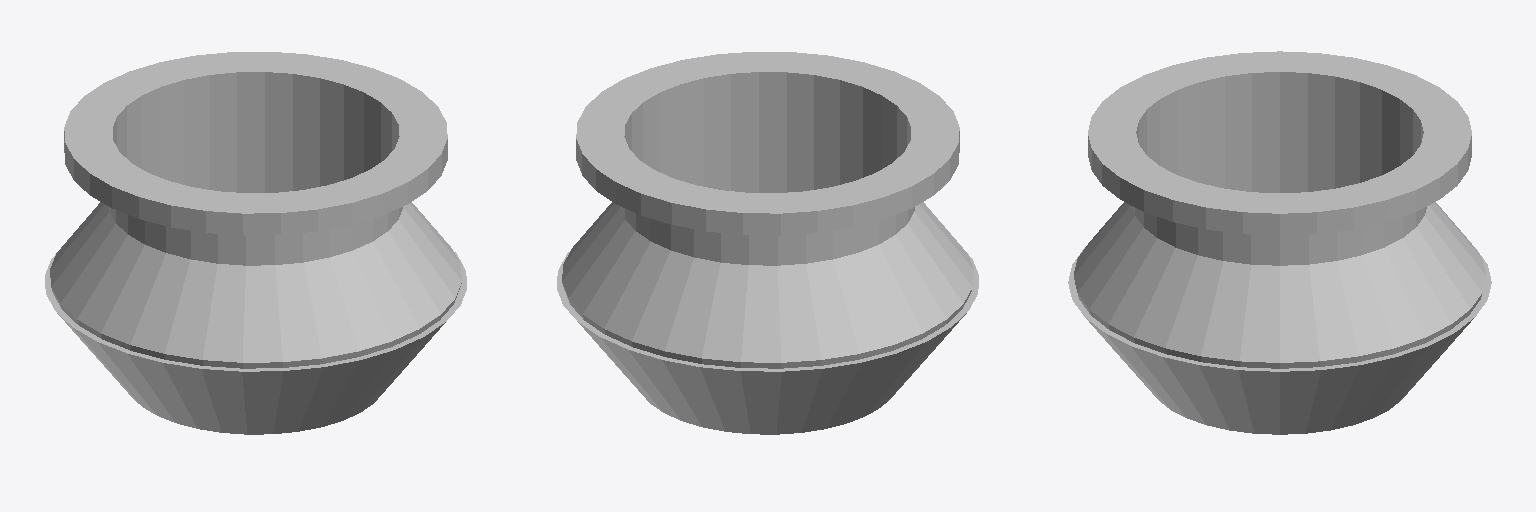
The model's file is Small_Vase.obj.
The picture shows the model from 3 angles: view 1: azimuth 30°, elevation 25°; view 2: azimuth 150°, elevation 25°; view 3: azimuth 270°, elevation 25°; orthographic projection.
Parts seen in each view (by area): view 1: Vase2; view 2: Vase2; view 3: Vase2.
Part boxes in pixels (x1,y1,x2,y2): Vase2: (45,52,466,434); Vase2: (557,52,978,434); Vase2: (1068,51,1491,434).
Bounding box in the file's own units: 2.04 × 1.31 × 2.04.